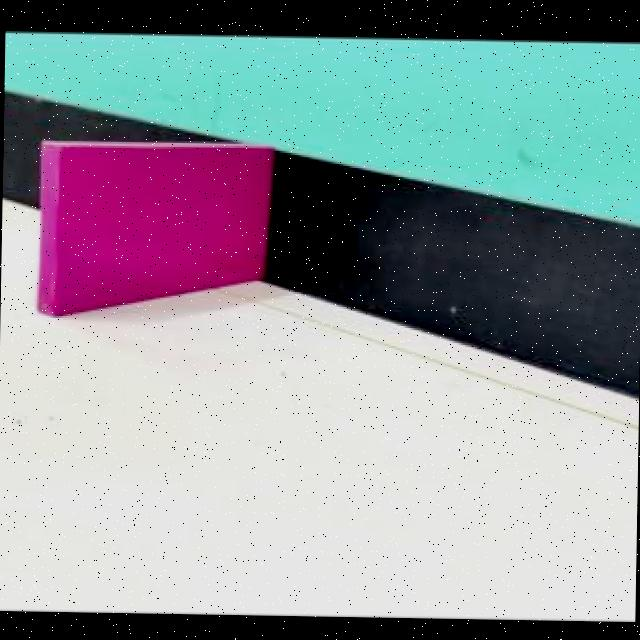xparking: (52, 147, 259, 320)
